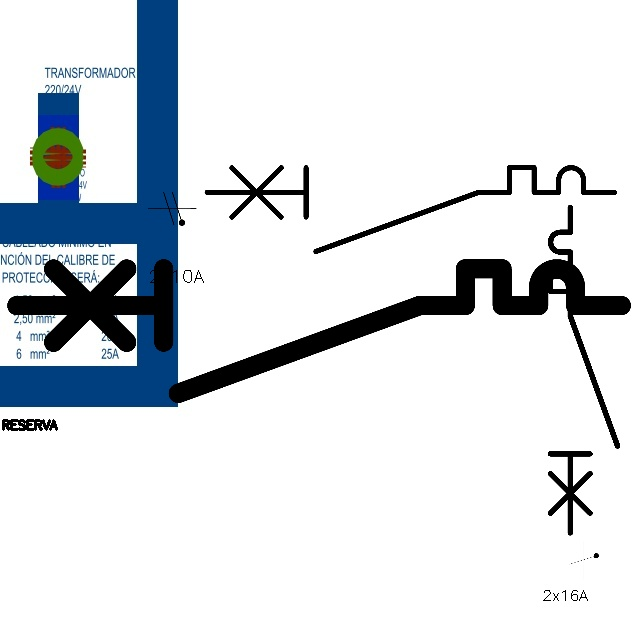interruptor_termomagnetico: (1, 253, 637, 408), (196, 157, 624, 262), (542, 199, 625, 541)
